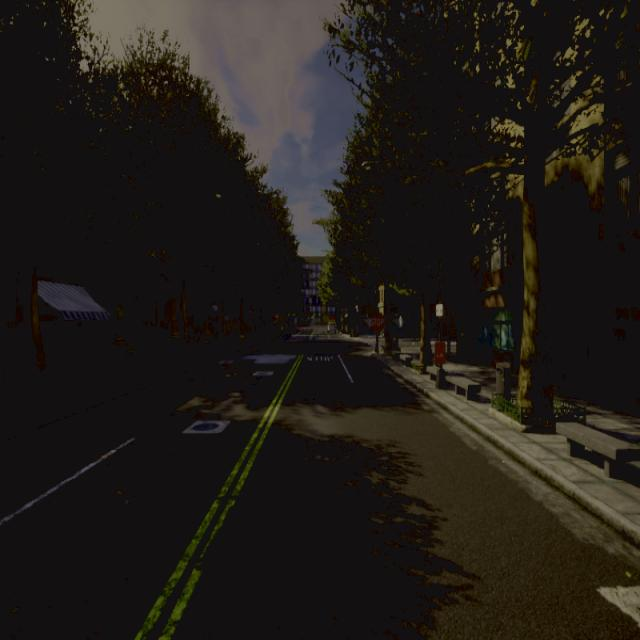stop sign: (367, 308, 388, 355), (368, 310, 387, 335)
